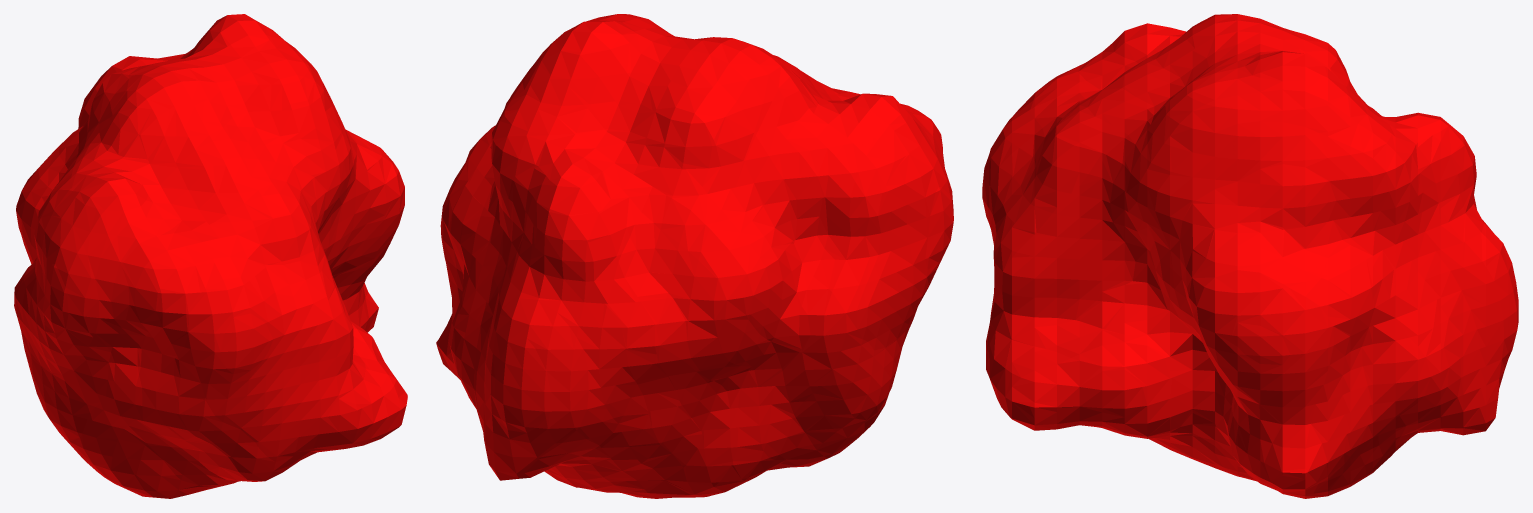
File: yjjV_coarse.dae
The picture shows the model from 3 angles, left to right: view 1: azimuth 30°, elevation 25°; view 2: azimuth 150°, elevation 25°; view 3: azimuth 270°, elevation 25°; orthographic projection. The views are drawn at different scales.
Visible parts, largest first — view 1: yjjV; view 2: yjjV; view 3: yjjV.
Boxes of the visible parts, <box> form: yjjV: <box>14,14,407,498</box>; yjjV: <box>436,14,953,498</box>; yjjV: <box>982,14,1518,498</box>.
Bounding box in the file's own units: 48.36 × 49.48 × 53.06.
